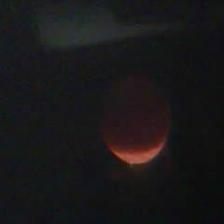fertile: (96, 69, 177, 169)
